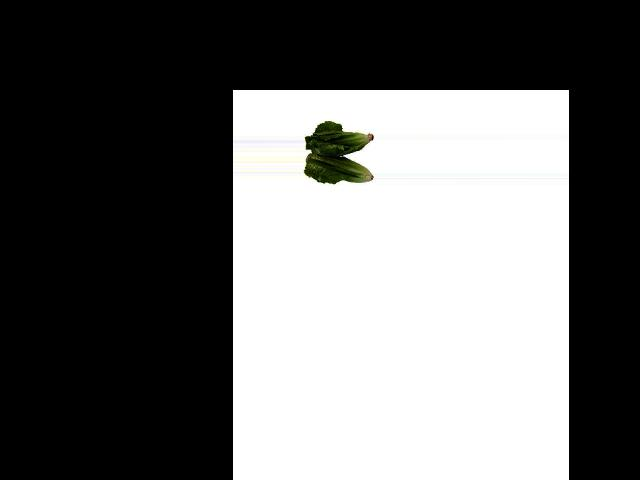lettuce: (304, 127, 374, 187)
